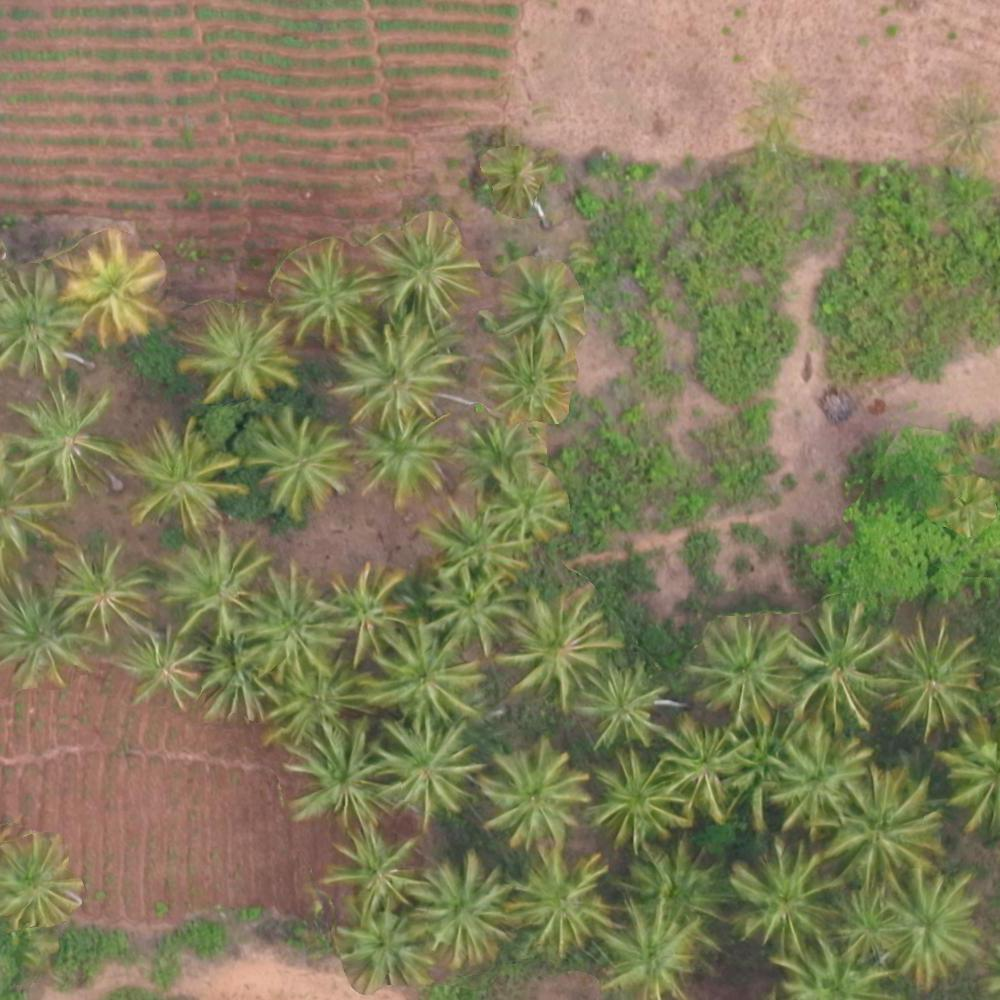Palm: (334, 314, 455, 425), (836, 768, 944, 885), (788, 607, 894, 726), (729, 838, 843, 946), (127, 423, 236, 534), (5, 383, 112, 491), (882, 871, 984, 983), (505, 593, 610, 701), (412, 857, 517, 964), (63, 236, 166, 345), (280, 718, 388, 821), (245, 408, 348, 515), (372, 625, 481, 726), (266, 652, 374, 752), (184, 305, 294, 402), (888, 619, 983, 730), (376, 721, 479, 821), (165, 532, 264, 636), (588, 748, 686, 850), (244, 567, 338, 673), (692, 622, 792, 721), (421, 498, 532, 585), (510, 854, 610, 950), (486, 747, 582, 846), (371, 224, 475, 315), (770, 726, 866, 824), (282, 240, 376, 339), (353, 409, 449, 504), (601, 901, 698, 995), (321, 562, 416, 657), (659, 716, 747, 818), (55, 546, 146, 644), (4, 580, 91, 681), (333, 909, 435, 993), (3, 269, 83, 374), (417, 562, 508, 651), (327, 827, 419, 913), (1, 838, 81, 933), (115, 625, 205, 709), (487, 340, 572, 425), (499, 262, 585, 345), (579, 664, 663, 746), (480, 462, 566, 540), (463, 415, 551, 490), (200, 634, 275, 716), (828, 886, 903, 966), (485, 145, 546, 210)
